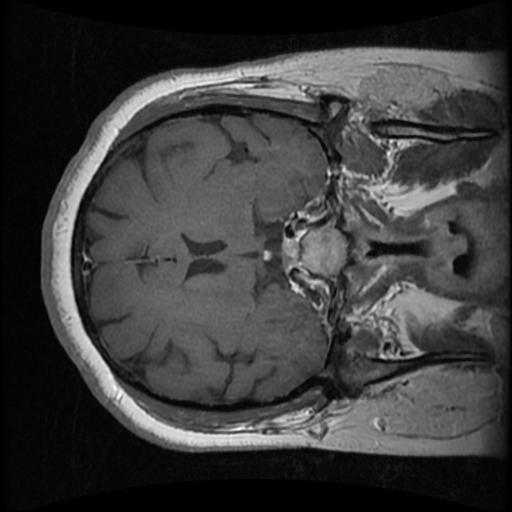pituitary tumour: (281, 237, 299, 271)
